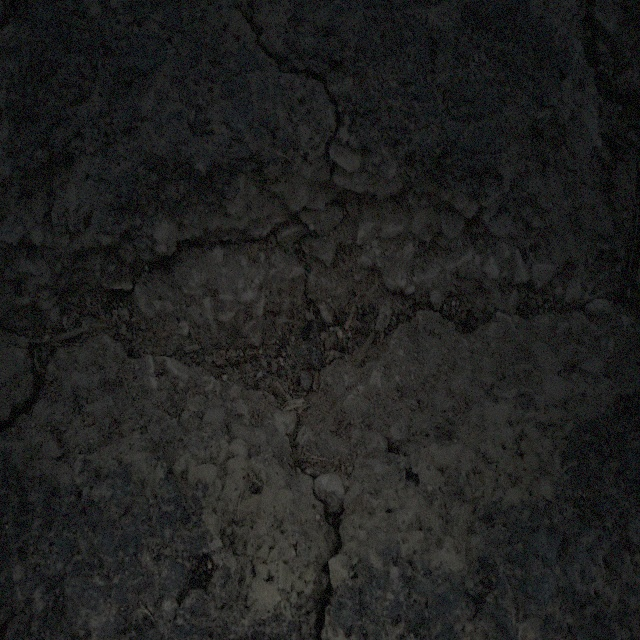pothole: (112, 164, 522, 400)
